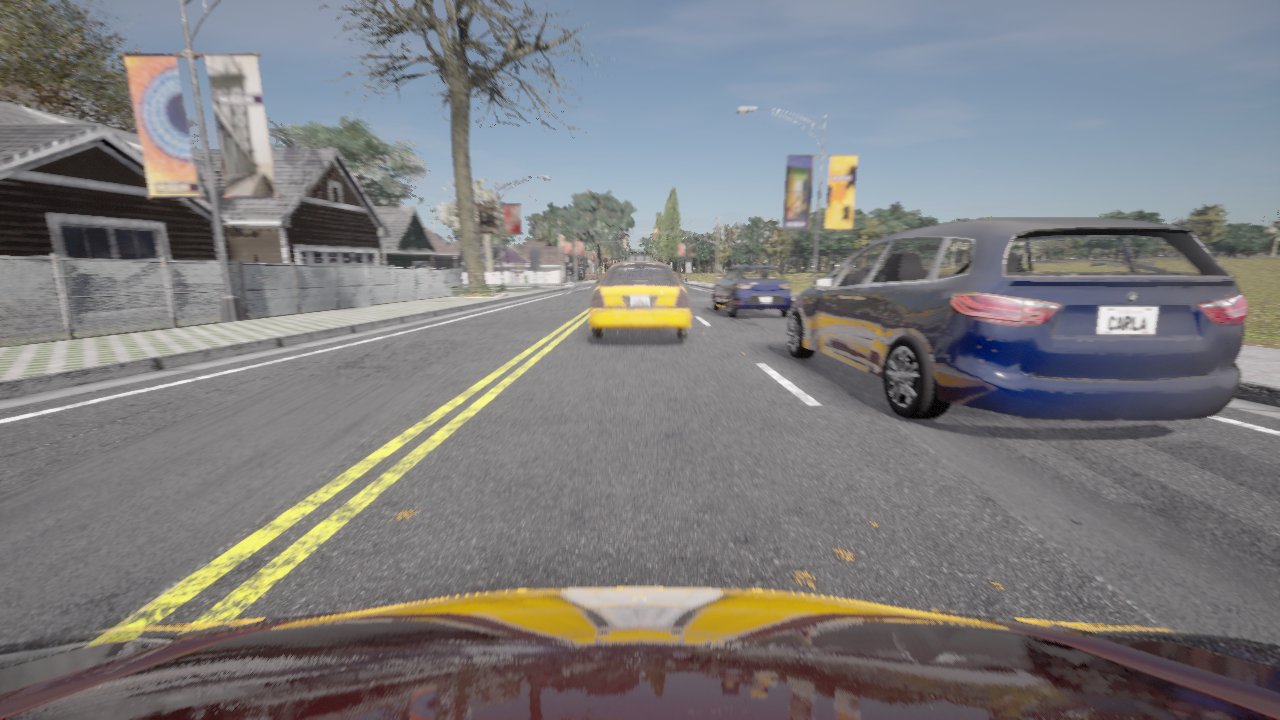cyclist: (0, 588, 1279, 719), (786, 218, 1246, 419), (589, 255, 690, 338), (711, 264, 793, 317), (677, 277, 679, 279)
